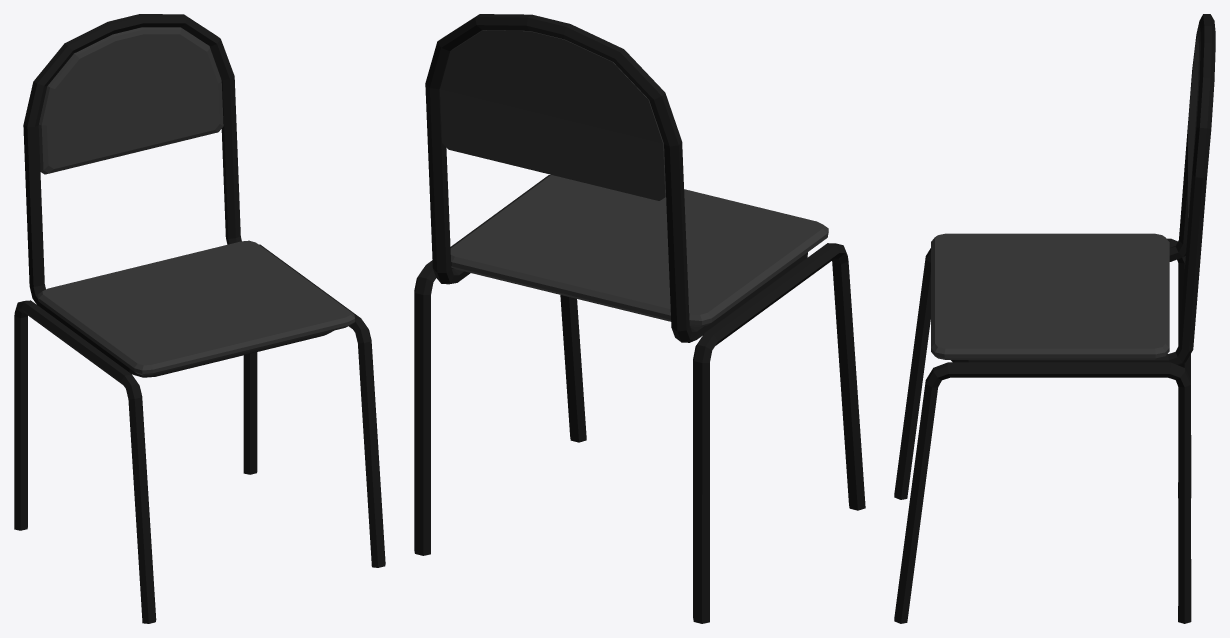
File: Int_Chair03.fbx
3 views of the same model, side by side, from view 1: azimuth 30°, elevation 25°; view 2: azimuth 150°, elevation 25°; view 3: azimuth 270°, elevation 25° (orthographic). The views are drawn at different scales.
Parts seen in each view (by area): view 1: Int_Chair03; view 2: Int_Chair03; view 3: Int_Chair03.
Part boxes in pixels (x1,y1,x2,y2): Int_Chair03: (14,14,385,623); Int_Chair03: (414,14,865,623); Int_Chair03: (894,14,1215,623).
Size of what is drawn, in the model's own units: 63.29 by 65.39 by 118.
